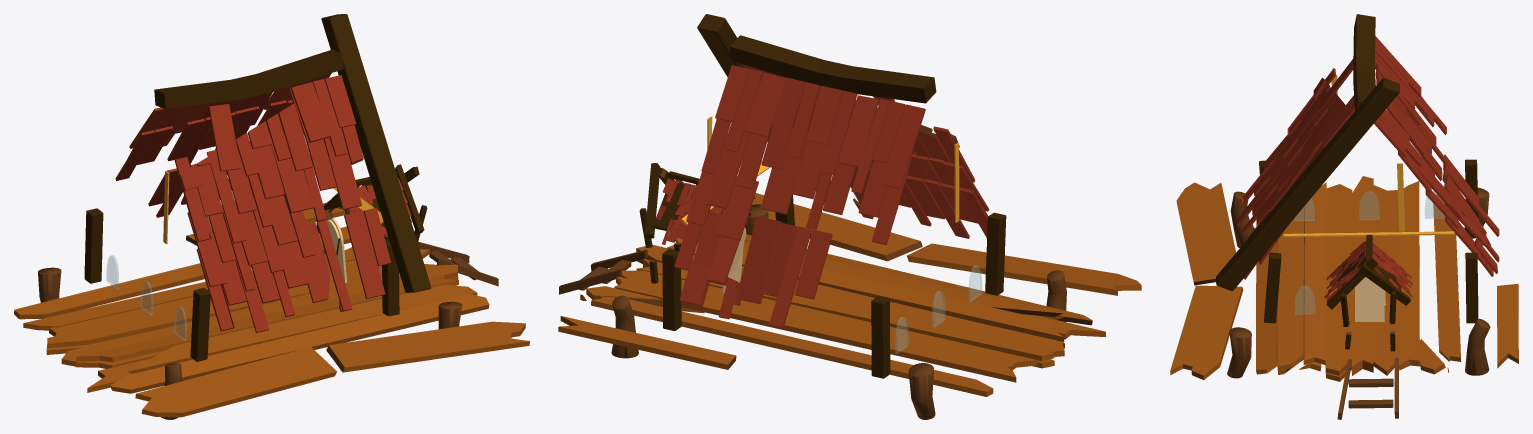
Rendered from brokenhouse.fbx.
3 renders of one model, left to right at view 1: azimuth 30°, elevation 25°; view 2: azimuth 150°, elevation 25°; view 3: azimuth 270°, elevation 25°, orthographic. The views are drawn at different scales.
Parts seen in each view (by area): view 1: ev_temel_cell.170; view 2: ev_temel_cell.170; view 3: ev_temel_cell.170.
Part boxes in pixels (x1,y1,x2,y2): ev_temel_cell.170: [14, 14, 529, 419]; ev_temel_cell.170: [558, 14, 1141, 419]; ev_temel_cell.170: [1170, 14, 1518, 419].
Size of the model in its own units: 558 by 349 by 397.
